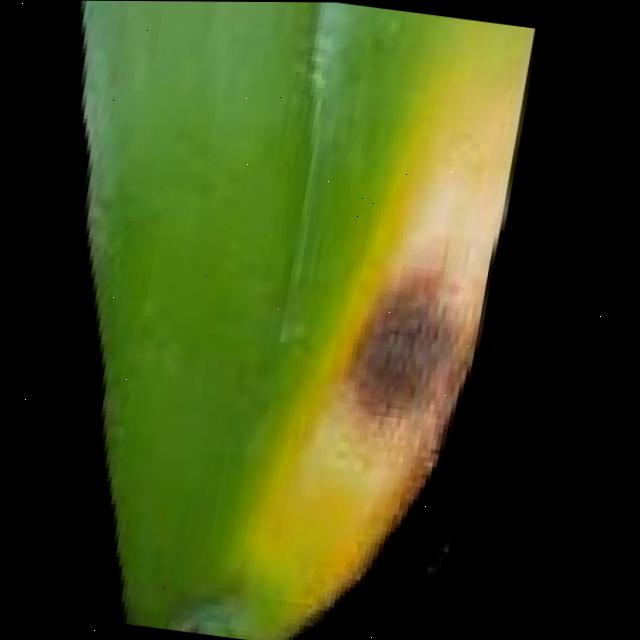mite: (144, 565, 308, 640), (170, 598, 290, 640), (174, 612, 249, 638), (174, 624, 290, 640), (178, 625, 222, 635)
sunburn: (337, 259, 485, 446)
